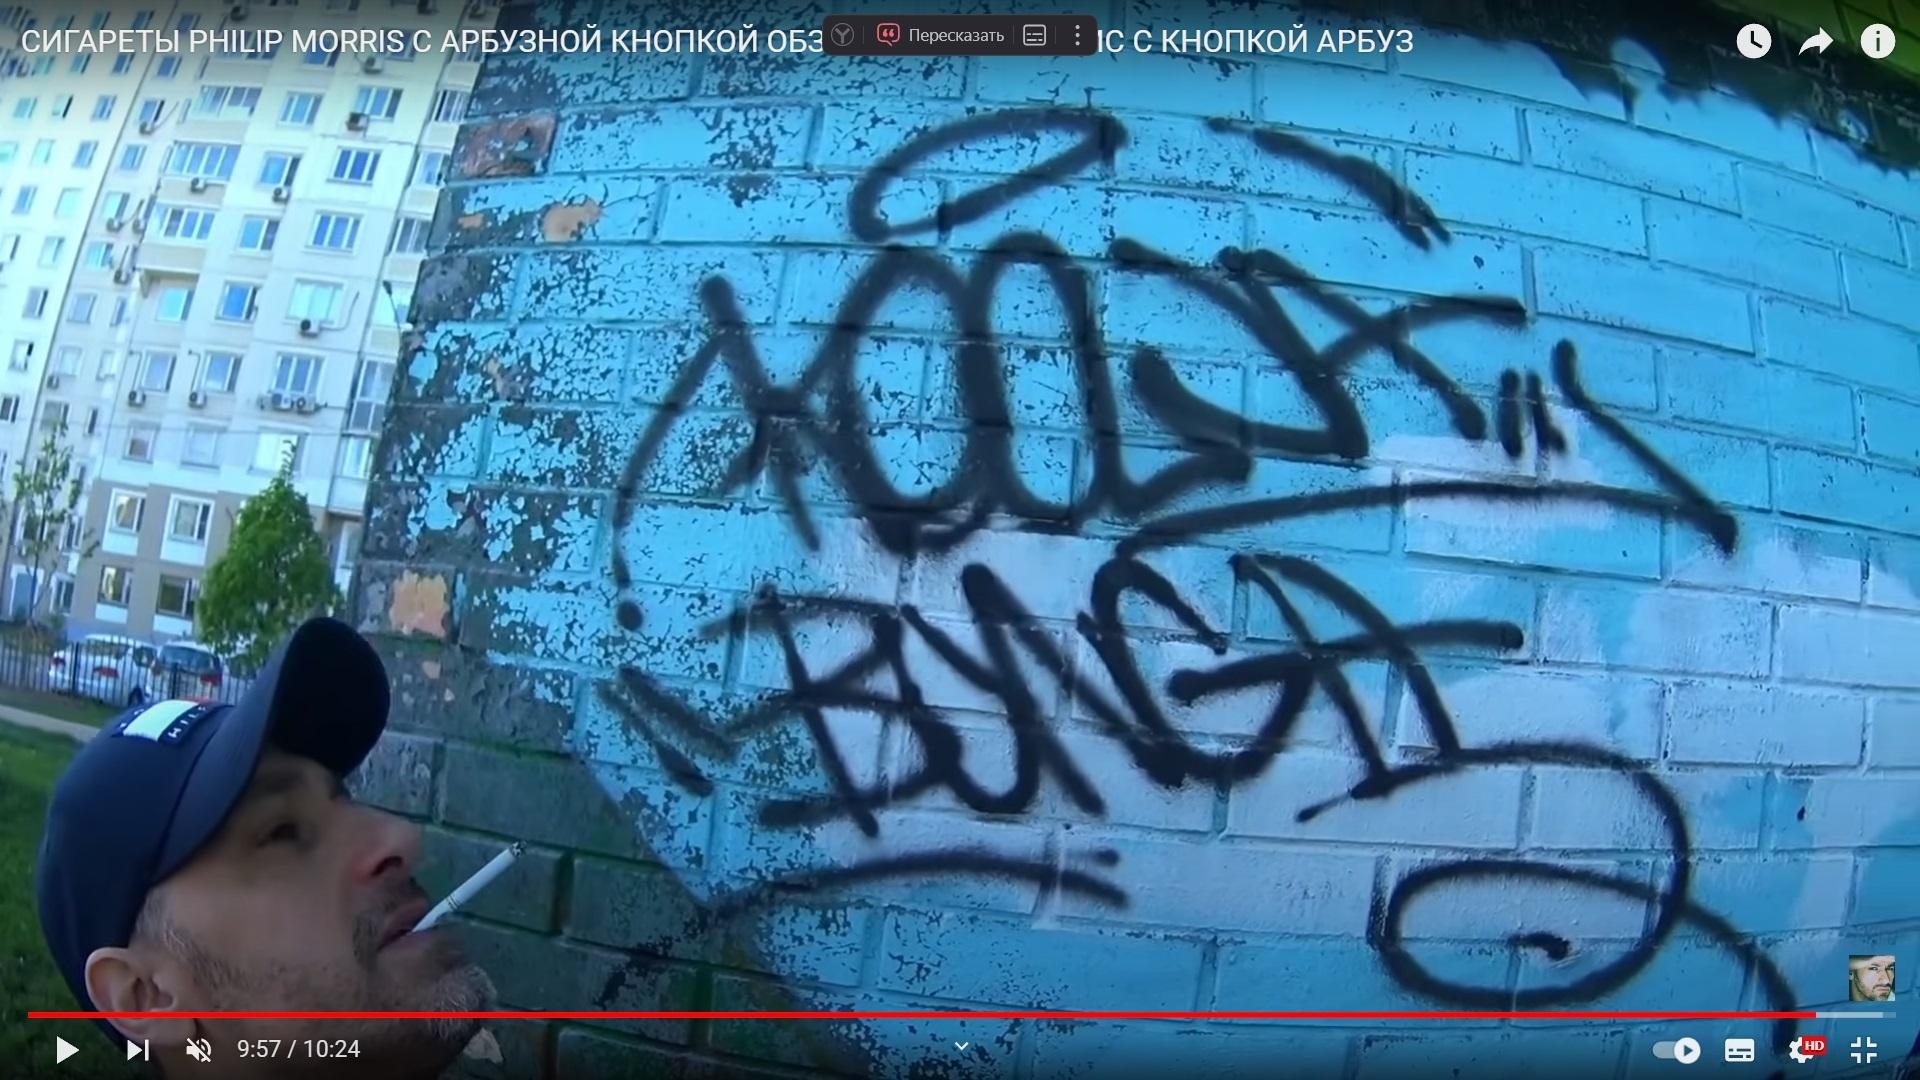cigarette: (411, 840, 529, 932)
